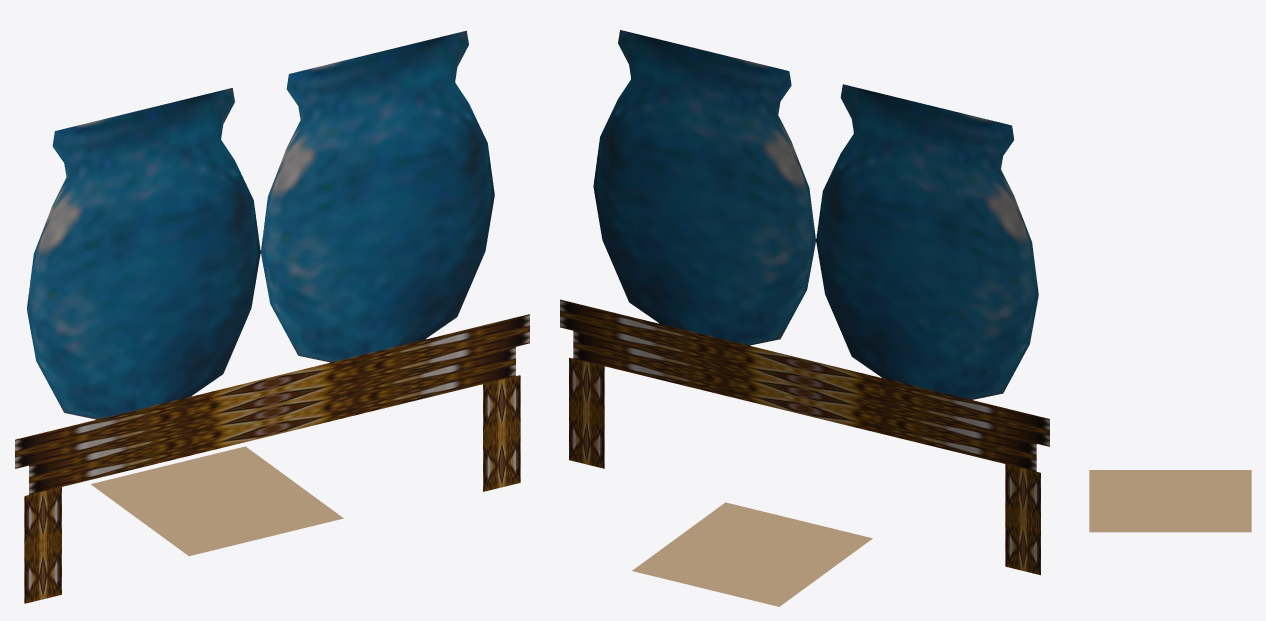
The model's file is toad-standee-rain-jars.glb.
3 renders of one model, left to right at view 1: azimuth 30°, elevation 25°; view 2: azimuth 150°, elevation 25°; view 3: azimuth 270°, elevation 25°, orthographic. The views are drawn at different scales.
Visible parts, largest first — view 1: rain-jars; view 2: rain-jars; view 3: rain-jars.
Boxes of the visible parts, <box> form: rain-jars: <box>15,30,529,603</box>; rain-jars: <box>560,30,1049,606</box>; rain-jars: <box>1089,470,1251,532</box>.
Bounding box in the file's own units: 0.1 × 0.0863 × 0.035.
1 material, 1 textured.
